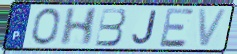B: (94, 7, 128, 47)
E: (159, 7, 197, 48)
H: (58, 7, 100, 48)
J: (131, 9, 158, 46)
O: (30, 7, 62, 46)
V: (197, 8, 230, 49)
